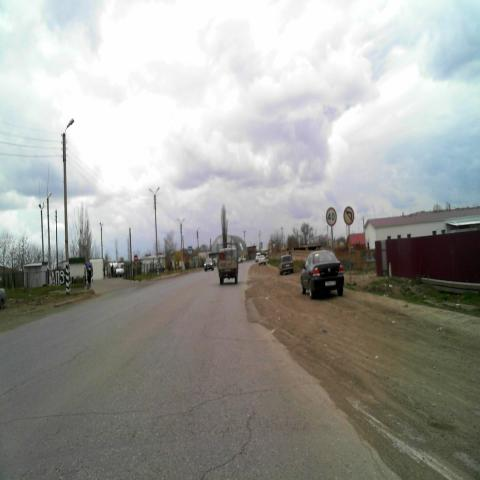3_18_2: (344, 206, 354, 226)
